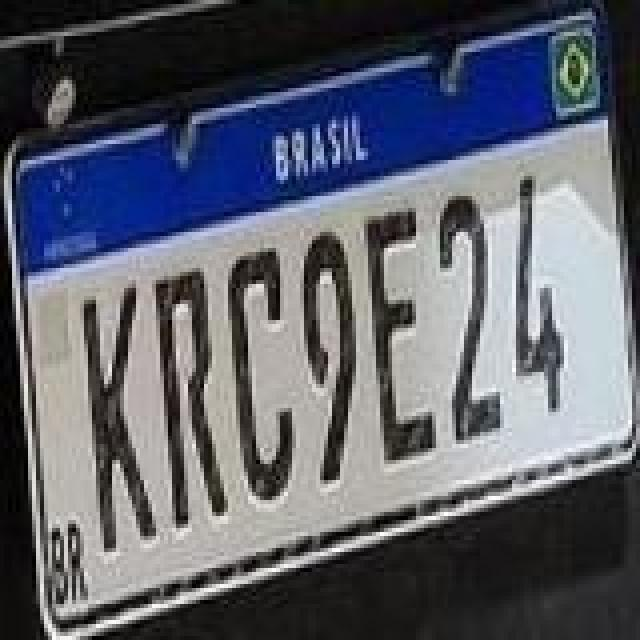2: (438, 194, 506, 446)
4: (512, 176, 568, 416)
9: (298, 226, 358, 486)
C: (230, 244, 298, 508)
E: (362, 204, 438, 468)
K: (80, 282, 160, 558)
R: (154, 268, 230, 532)
